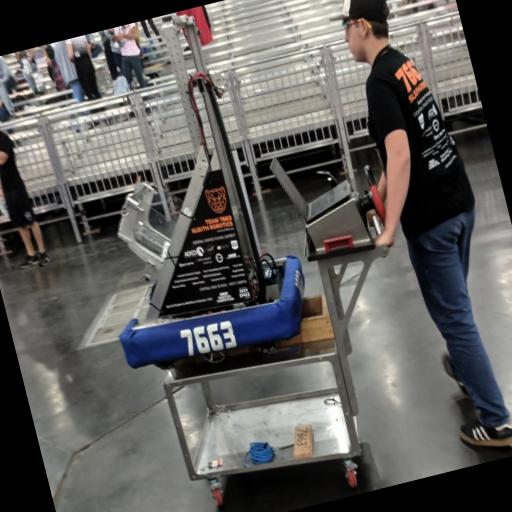robot: (48, 3, 318, 377)
